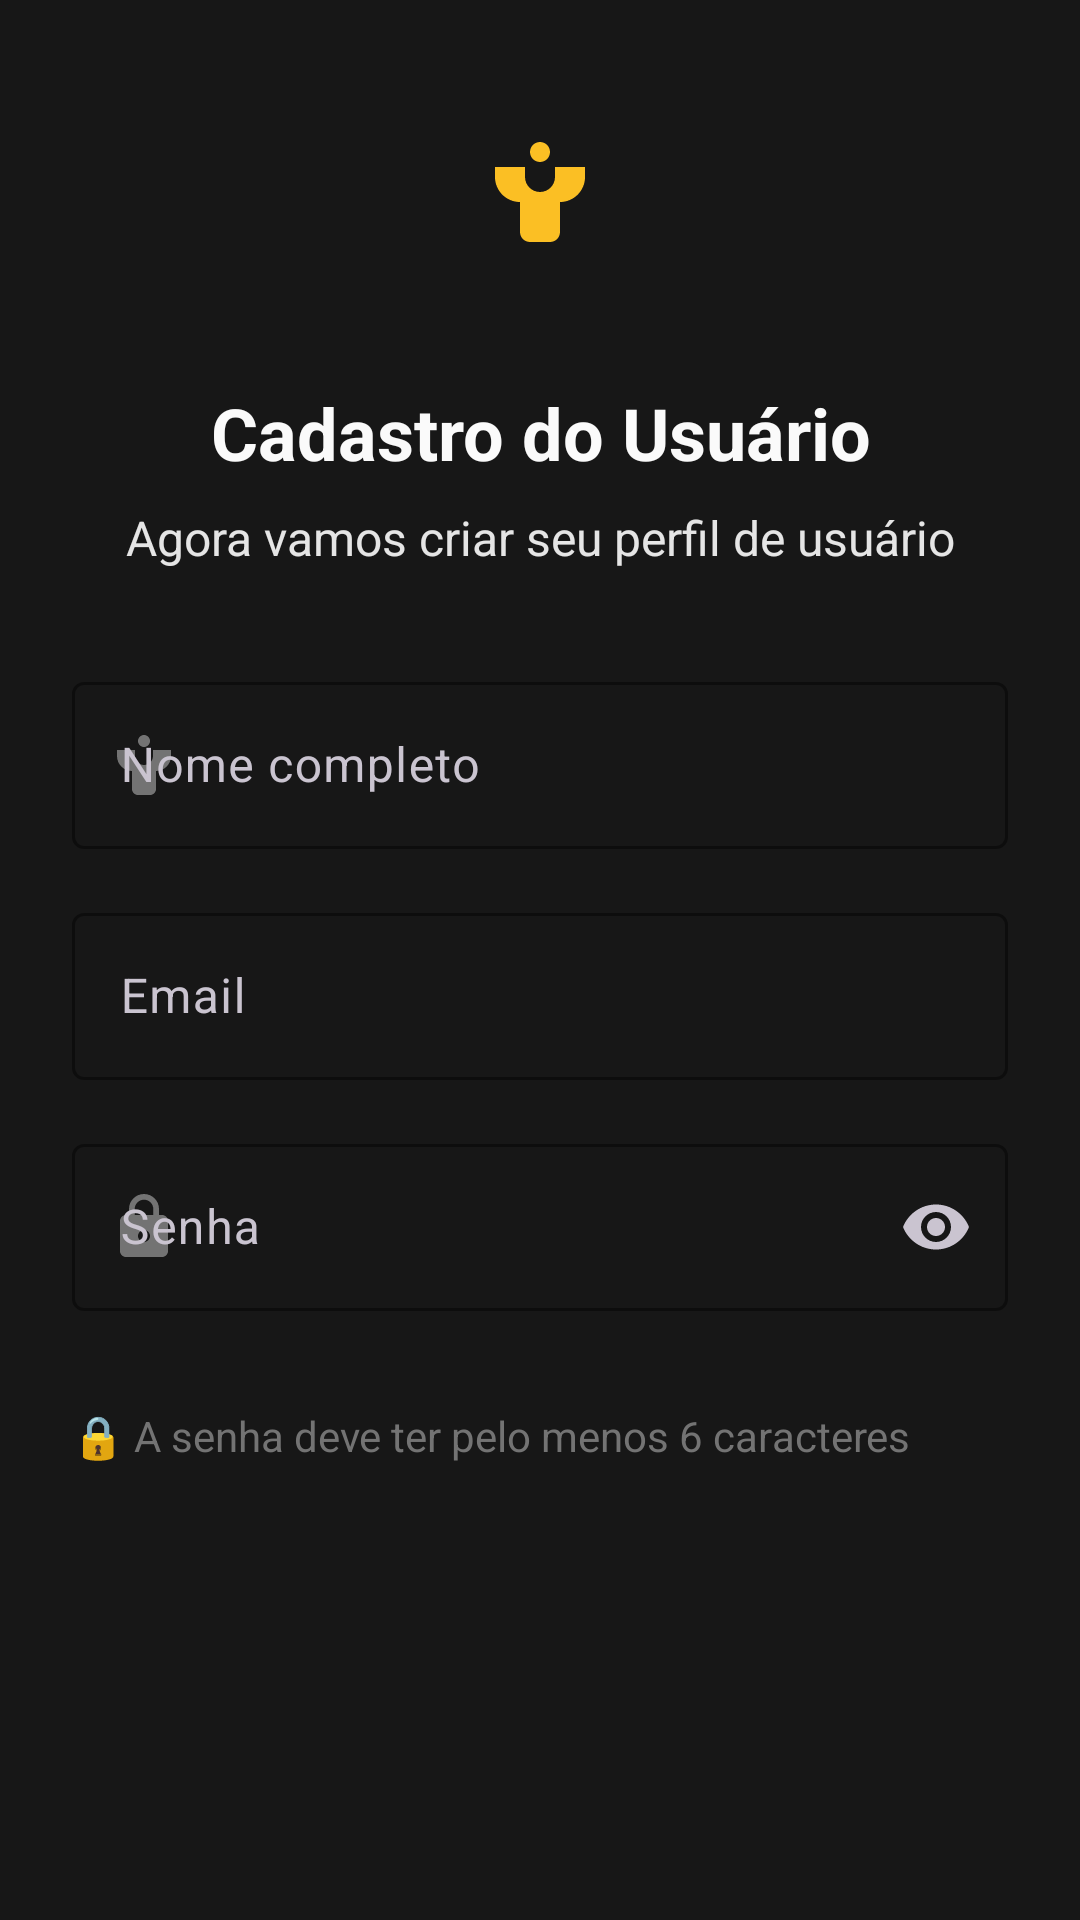

Icons on this 1080 x 1920 Android screen, each with the point to tap as [x,y]:
person: [540,192]
